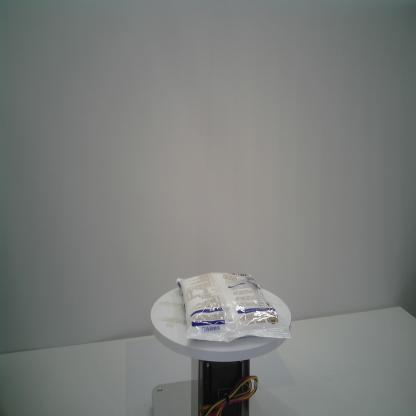Seasoner: (173, 270, 292, 343)
